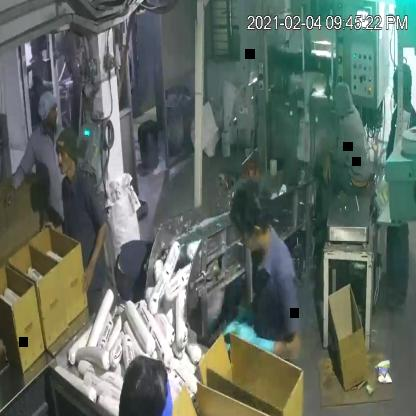glove: (224, 322, 307, 366)
no_glove: (75, 211, 113, 295), (0, 305, 21, 385), (0, 178, 21, 218)
